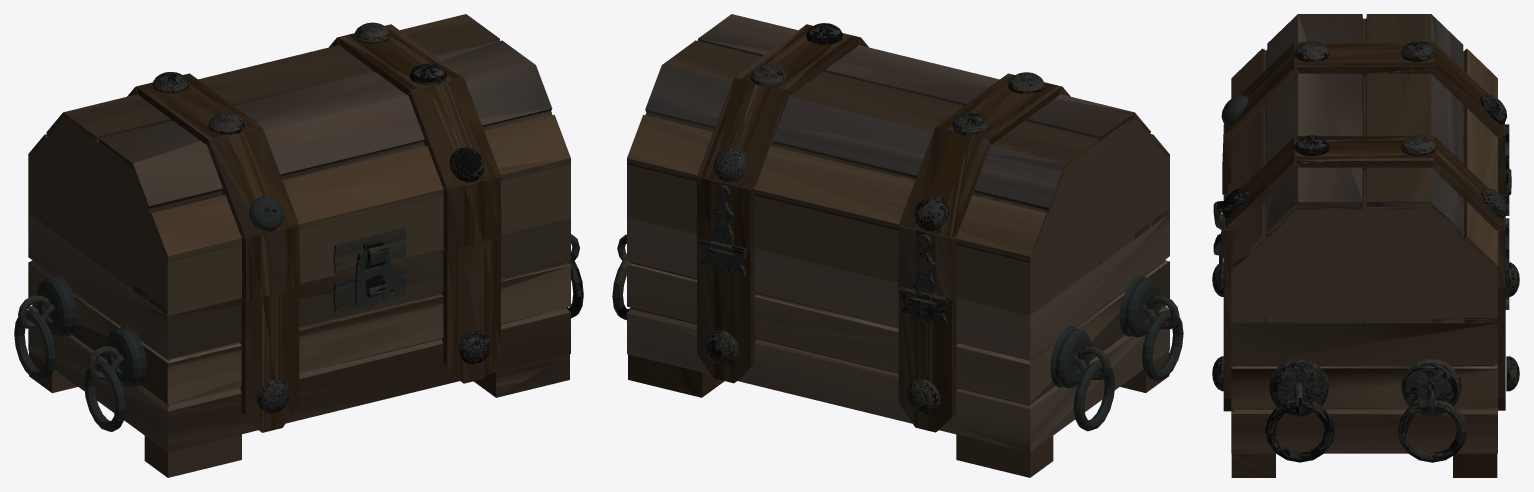
The model's file is chest.glb.
The picture shows the model from 3 angles, left to right: view 1: azimuth 30°, elevation 25°; view 2: azimuth 150°, elevation 25°; view 3: azimuth 270°, elevation 25°; orthographic projection. The views are drawn at different scales.
Visible parts, largest first — view 1: Сундук; view 2: Сундук; view 3: Сундук.
Part boxes in pixels (x1,y1,x2,y2): Сундук: (14, 14, 583, 477); Сундук: (612, 14, 1183, 477); Сундук: (1212, 14, 1519, 477).
Size of the model in its own units: 1 by 0.5969 by 0.5663.
5 materials, 5 textured.
